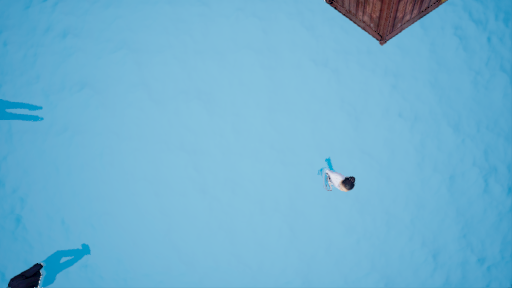person: (305, 158, 361, 197)
